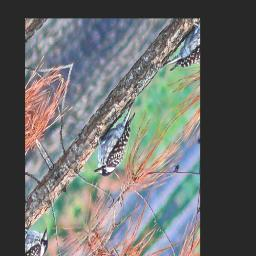Woodpecker: (77, 86, 155, 195)
